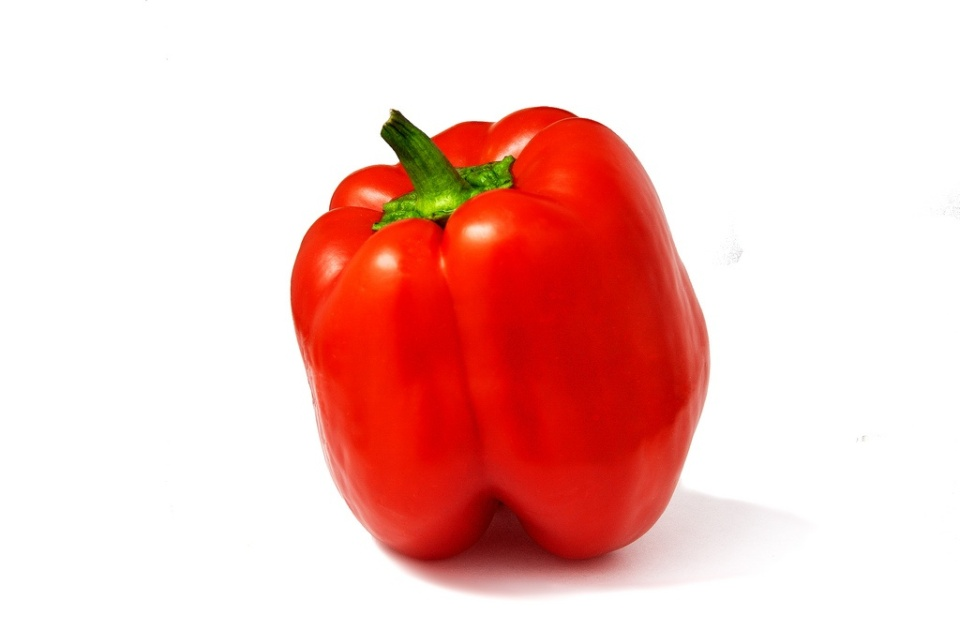fruit: (289, 104, 712, 562)
pedicle: (373, 151, 516, 227)
